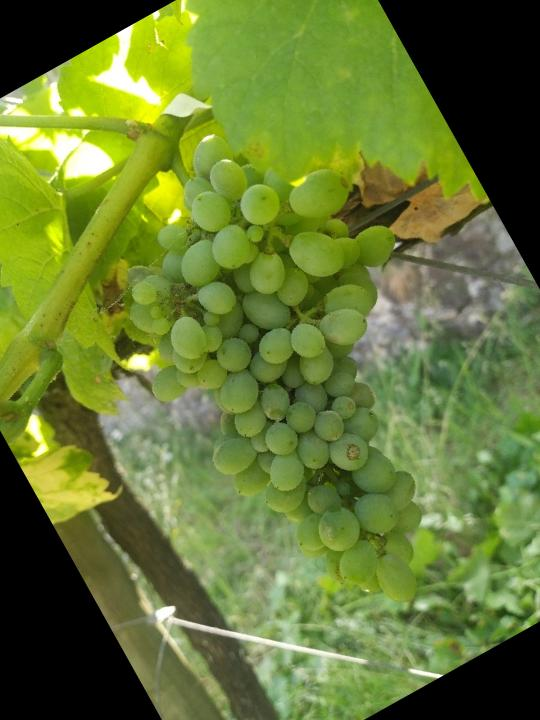grape: (49, 74, 540, 670)
